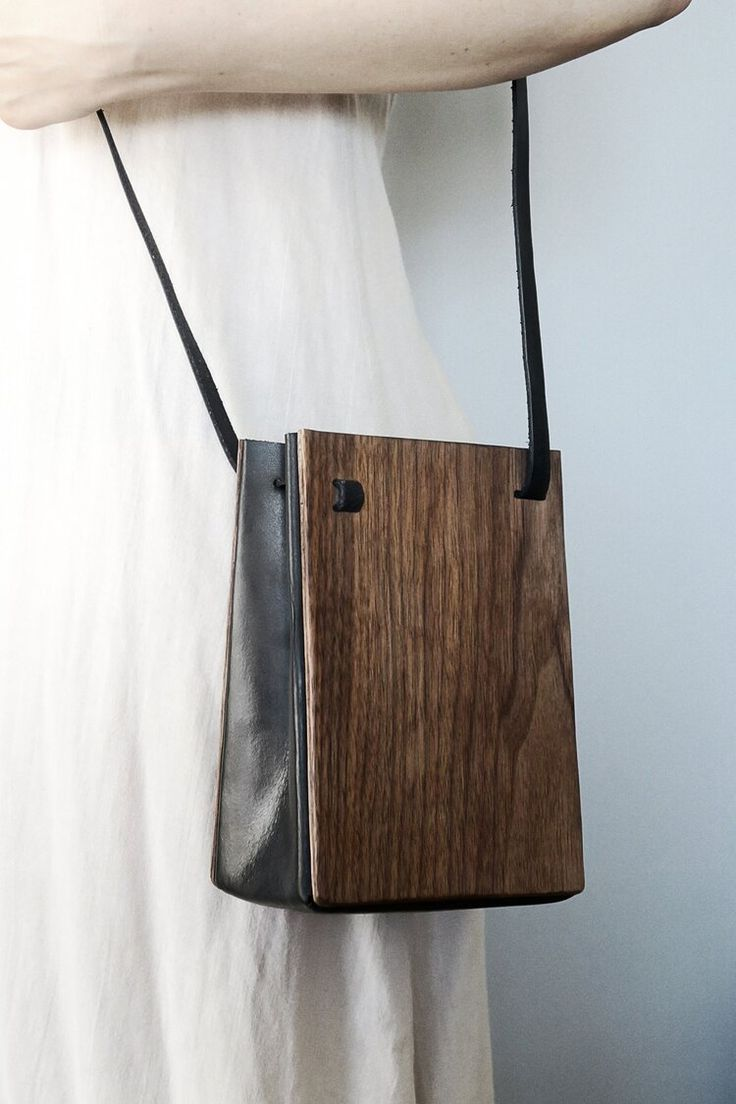cuero: (206, 430, 333, 916)
